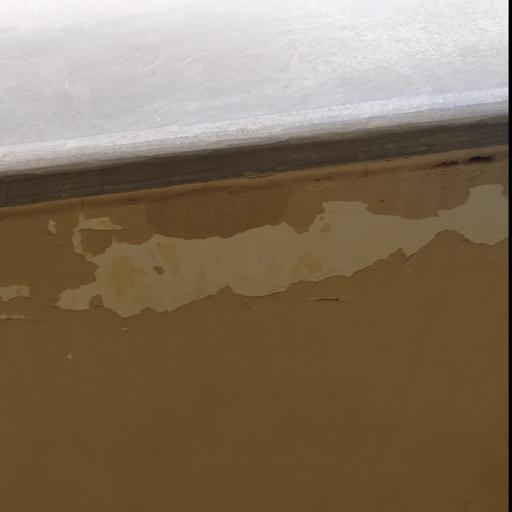peeling: (0, 177, 512, 332)
